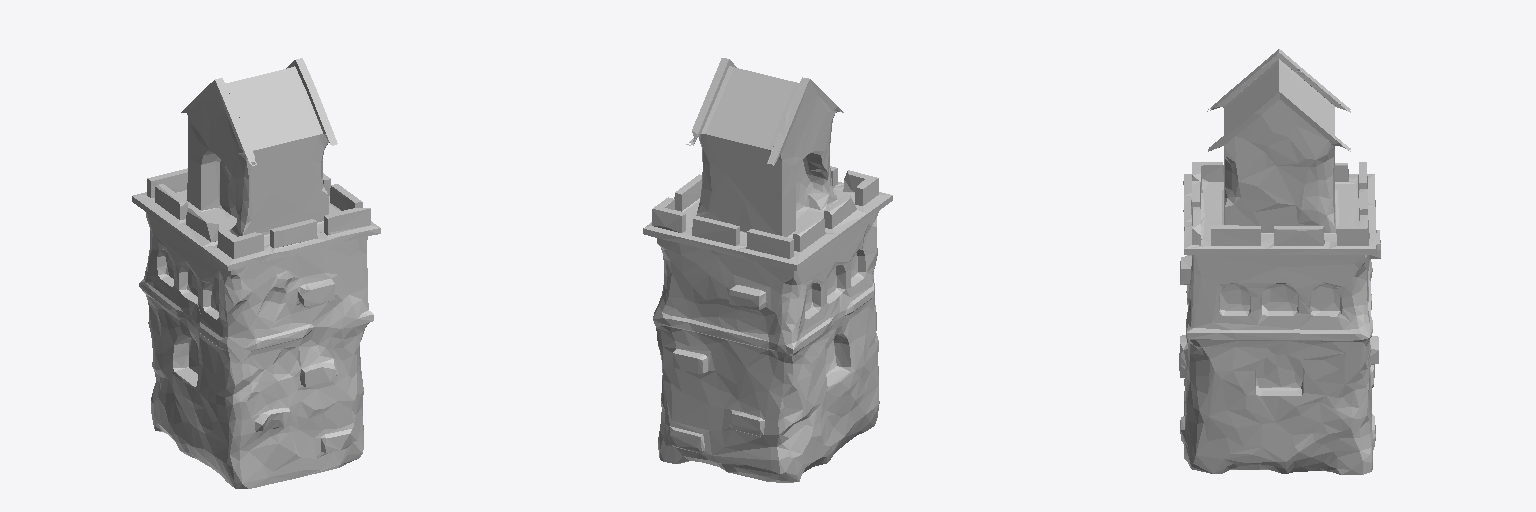
File: greatwall3.OBJ
3 views of the same model, side by side, from view 1: azimuth 30°, elevation 25°; view 2: azimuth 150°, elevation 25°; view 3: azimuth 270°, elevation 25° (orthographic).
Visible parts, largest first — view 1: Group27446; view 2: Group27446; view 3: Group27446.
Boxes of the visible parts, x1=… form: Group27446: x1=132, y1=58, x2=380, y2=488; Group27446: x1=643, y1=58, x2=892, y2=482; Group27446: x1=1179, y1=49, x2=1380, y2=474.
Size of the model in its own units: 10.09 by 23.55 by 11.5.